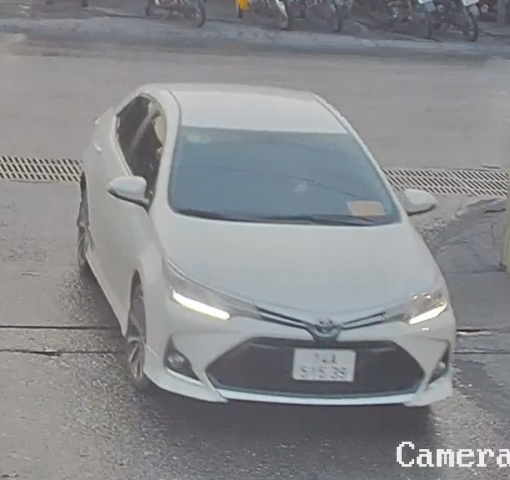vehicle plate: (290, 334, 357, 385)
